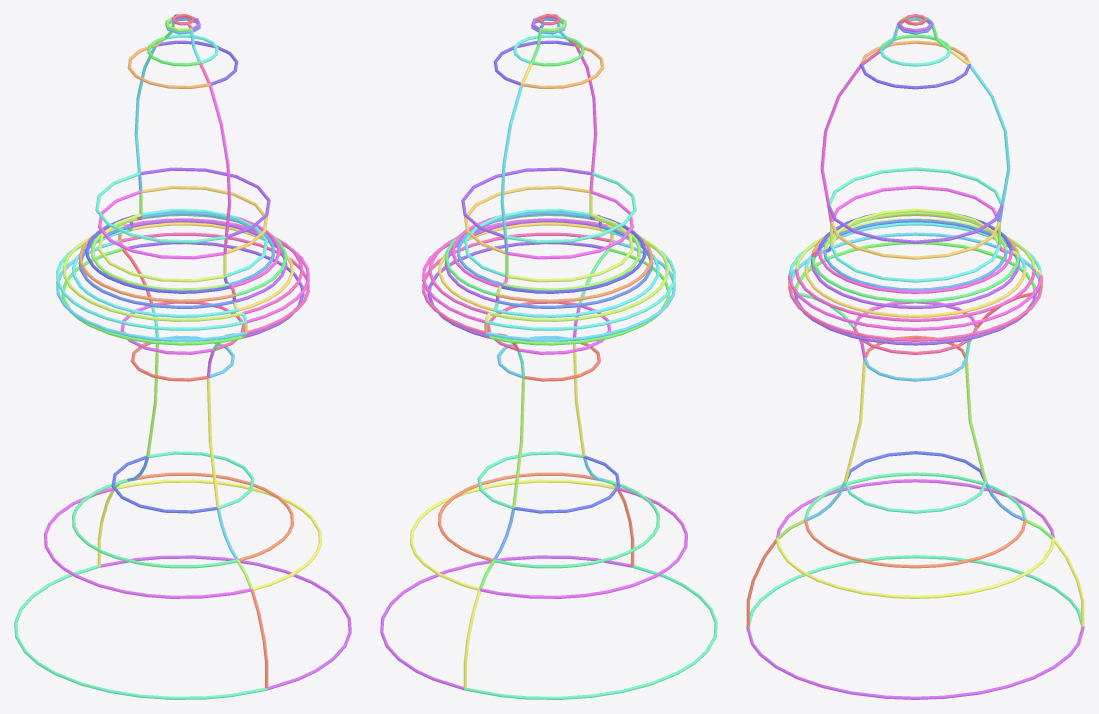
File: onshape_bishop.gltf
3 views of the same model, side by side, from view 1: azimuth 30°, elevation 25°; view 2: azimuth 150°, elevation 25°; view 3: azimuth 270°, elevation 25° (orthographic).
Bounding box in the file's own units: 0.412 × 0.8201 × 0.412.
